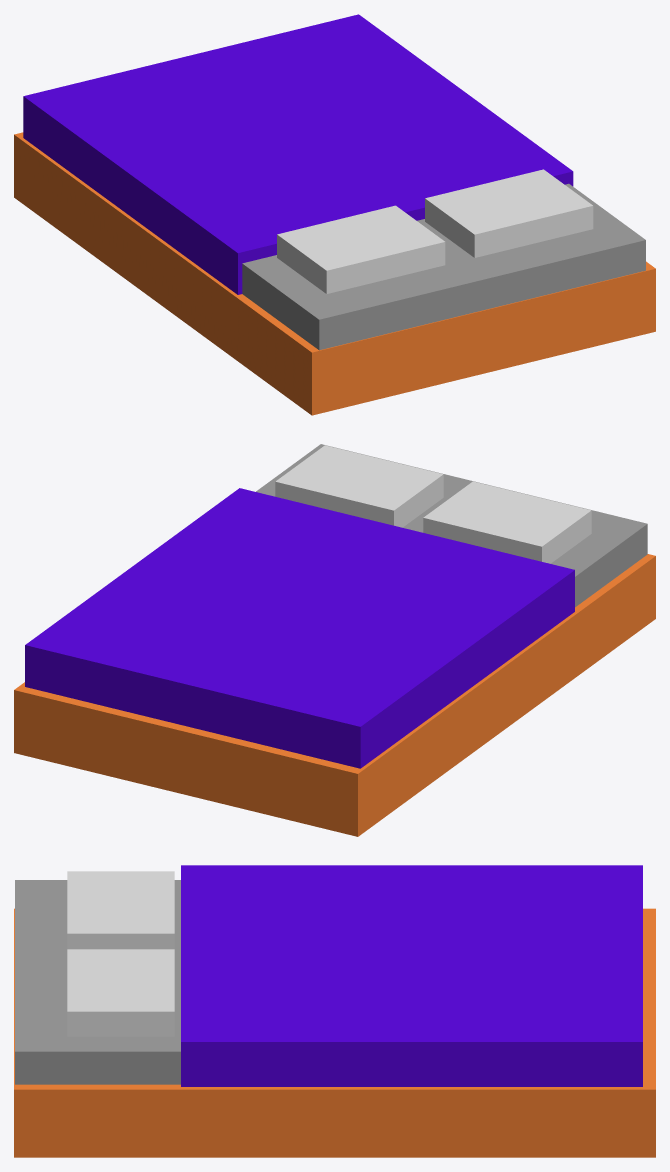
Rendered from Bed.gltf.
3 renders of one model, top to bottom at view 1: azimuth 30°, elevation 25°; view 2: azimuth 150°, elevation 25°; view 3: azimuth 270°, elevation 25°, orthographic. The views are drawn at different scales.
Parts seen in each view (by area): view 1: Cube.004, Cube, Cube.001, Cube.003, Cube.002; view 2: Cube.004, Cube, Cube.002, Cube.003, Cube.001; view 3: Cube.004, Cube, Cube.001, Cube.003, Cube.002.
Part boxes in pixels (bbox=[...]): Cube.004: bbox=[23, 14, 573, 294]; Cube: bbox=[14, 132, 655, 415]; Cube.001: bbox=[242, 183, 645, 350]; Cube.003: bbox=[425, 169, 593, 257]; Cube.002: bbox=[277, 205, 445, 293]; Cube.004: bbox=[25, 488, 574, 768]; Cube: bbox=[14, 554, 655, 836]; Cube.002: bbox=[423, 481, 591, 563]; Cube.003: bbox=[275, 445, 443, 527]; Cube.001: bbox=[256, 444, 647, 607]; Cube.004: bbox=[181, 865, 642, 1086]; Cube: bbox=[14, 908, 655, 1157]; Cube.001: bbox=[15, 880, 180, 1084]; Cube.003: bbox=[67, 949, 174, 1036]; Cube.002: bbox=[67, 871, 174, 949].
Bounding box in the file's own units: 4 × 1.3 × 6.
